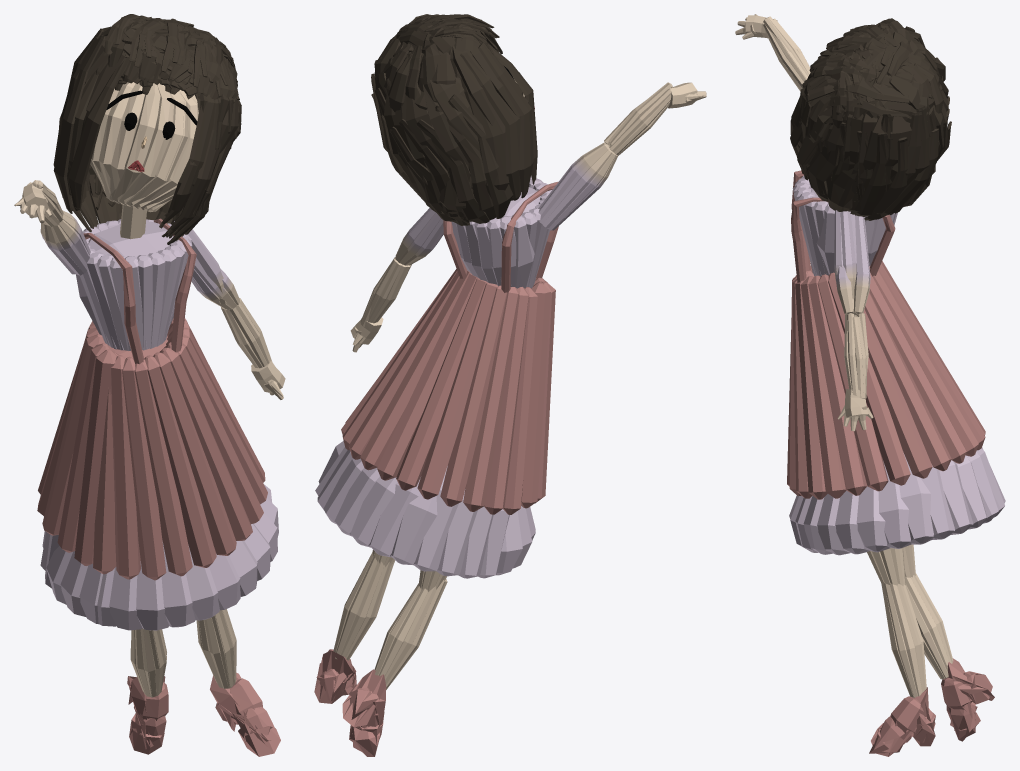
Rendered from mom.fbx.
The picture shows the model from 3 angles, left to right: view 1: azimuth 30°, elevation 25°; view 2: azimuth 150°, elevation 25°; view 3: azimuth 270°, elevation 25°; orthographic projection. The views are drawn at different scales.
Parts seen in each view (by area): view 1: Torso_baked; view 2: Torso_baked; view 3: Torso_baked.
Boxes of the visible parts, x1,y1,x2,y2 form: Torso_baked: (14,14,285,756); Torso_baked: (314,14,706,756); Torso_baked: (735,14,1005,756).
Size of the model in its own units: 0.9656 by 2.15 by 0.7592.
